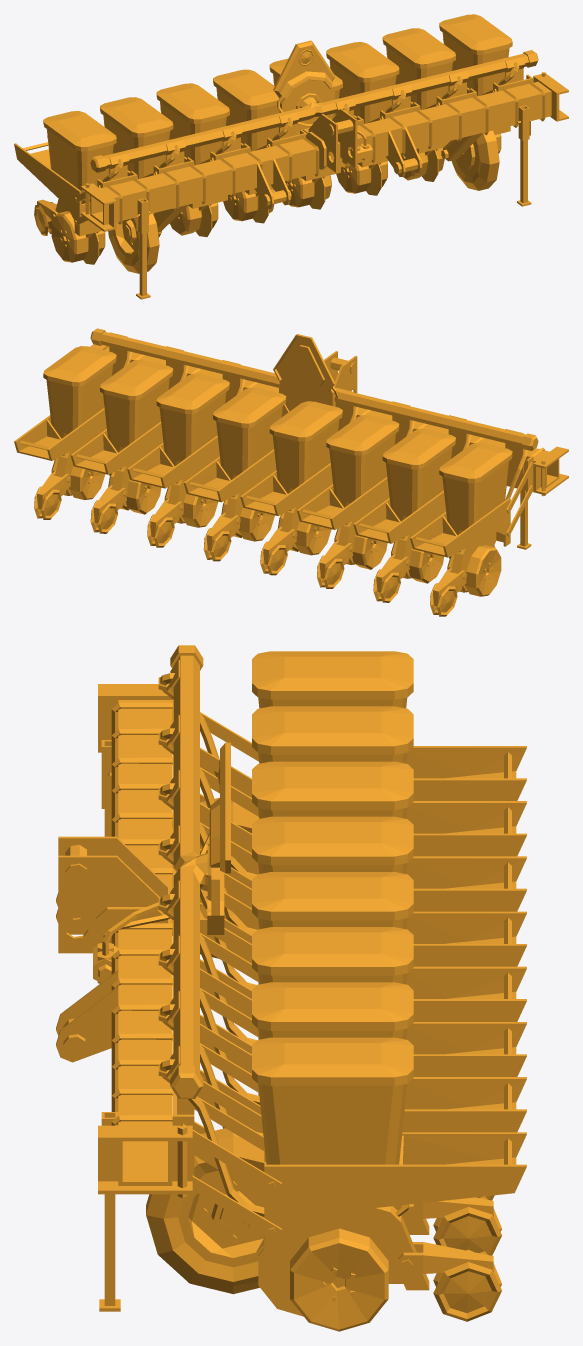
The model's file is SM_Seeder.fbx.
The picture shows the model from 3 angles, top to bottom: view 1: azimuth 30°, elevation 25°; view 2: azimuth 150°, elevation 25°; view 3: azimuth 270°, elevation 25°; orthographic projection. The views are drawn at different scales.
Parts seen in each view (by area): view 1: seeder-base, seeder-wheels-ba, seeder-wheels-fr, seeder-wheels-m, seeder-stand; view 2: seeder-base, seeder-wheels-ba, seeder-stand; view 3: seeder-base, seeder-wheels-fr, seeder-wheels-ba, seeder-stand, seeder-wheels-m.
Boxes of the visible parts, x1,y1,x2,y2 form: seeder-base: (14, 14, 568, 237); seeder-wheels-ba: (51, 134, 501, 262); seeder-wheels-fr: (108, 130, 499, 273); seeder-wheels-m: (83, 149, 438, 264); seeder-stand: (136, 139, 531, 299); seeder-base: (14, 328, 568, 616); seeder-wheels-ba: (51, 458, 501, 596); seeder-stand: (517, 489, 531, 549); seeder-base: (56, 645, 526, 1321); seeder-wheels-fr: (146, 797, 264, 1294); seeder-wheels-ba: (290, 1228, 388, 1331); seeder-stand: (99, 809, 120, 1311); seeder-wheels-m: (258, 927, 303, 1316).
Size of the model in its own units: 3.67 by 1.41 by 1.61.
